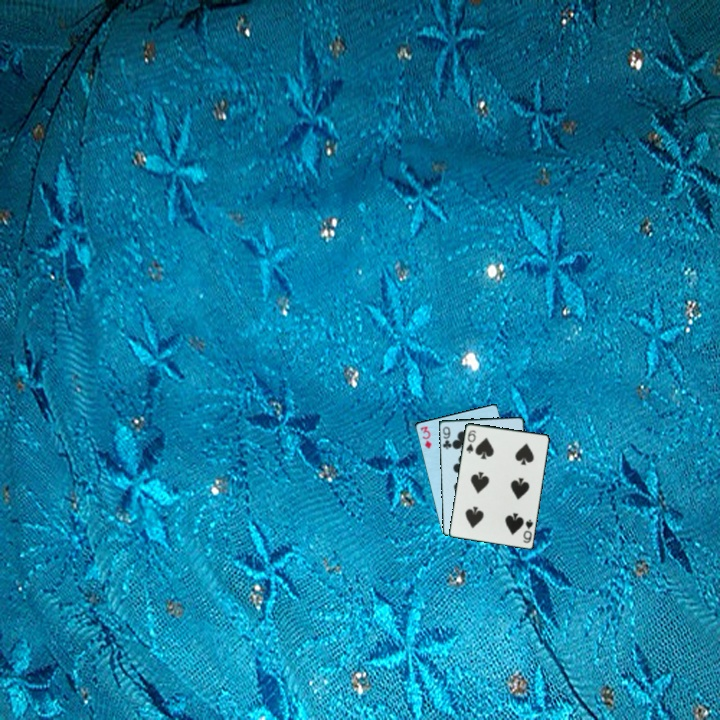3d: (417, 423, 436, 452)
6s: (519, 516, 536, 545), (463, 426, 478, 456)
9c: (439, 423, 454, 452)
